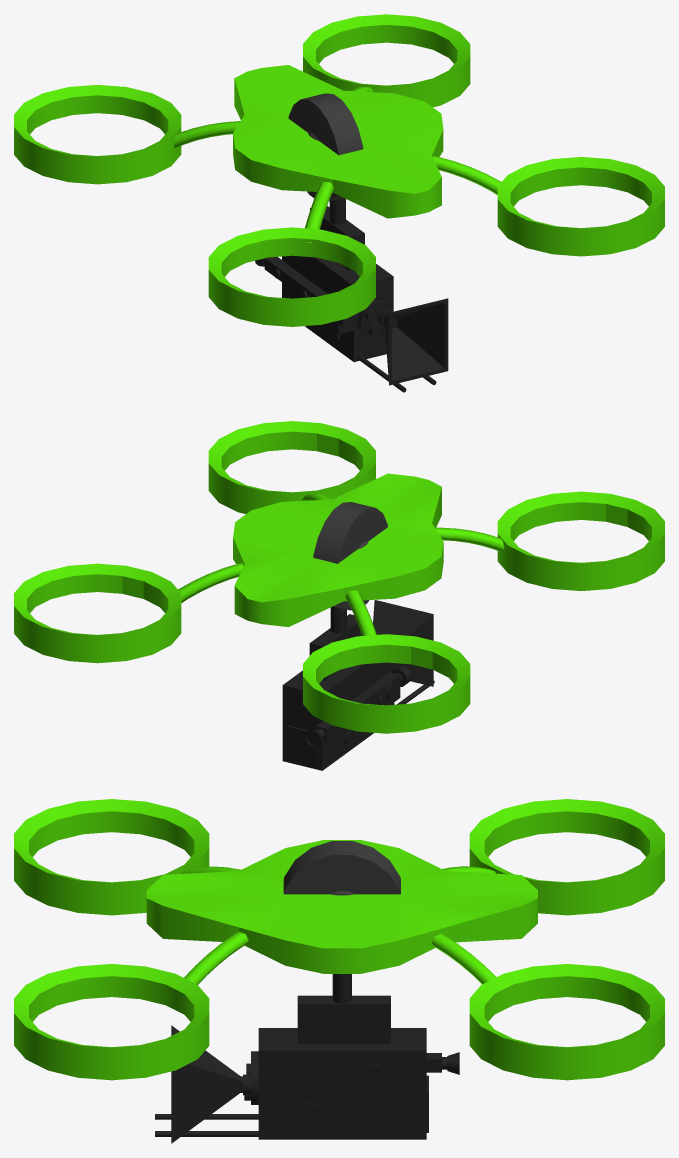
Rendered from CameraDrone.FBX.
3 views of the same model, one above another, from view 1: azimuth 30°, elevation 25°; view 2: azimuth 150°, elevation 25°; view 3: azimuth 270°, elevation 25° (orthographic). The views are drawn at different scales.
Parts seen in each view (by area): view 1: Main, Camera, Film1, Film2; view 2: Main, Camera, Film1, Film2; view 3: Main, Camera, Film1, Film2.
Boxes of the visible parts, x1,y1,x2,y2 form: Main: (14,14,664,326); Camera: (255,198,448,392); Film1: (288,93,363,201); Film2: (289,99,338,198); Main: (14,421,664,733); Camera: (282,600,434,770); Film1: (313,502,387,610); Film2: (338,508,387,609); Main: (14,799,664,1080); Camera: (155,974,459,1143); Film1: (283,841,400,895); Film2: (285,855,400,894).
Size of the model in its own units: 166 by 84.78 by 183.
